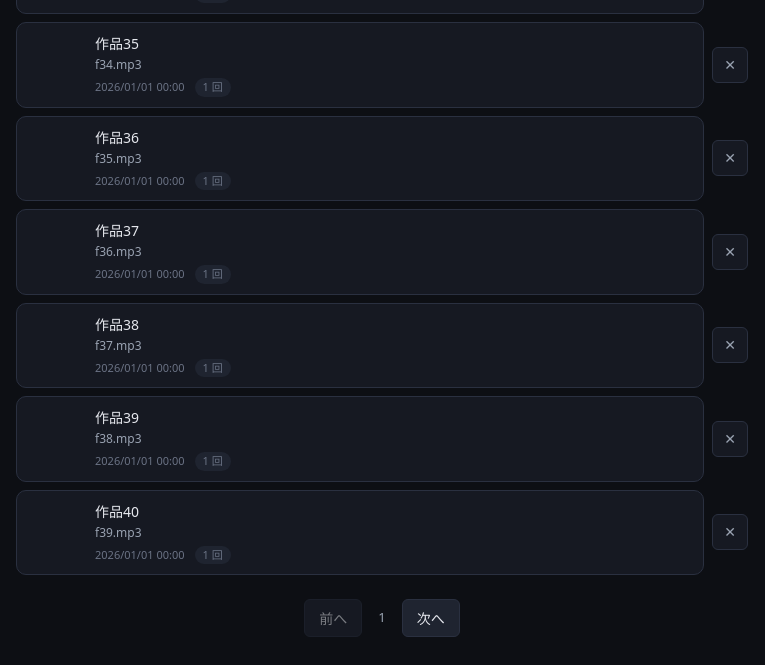
Test case: HistoryPage 非先頭ページの全件削除 › 2 ページ目の最後の 1 件を削除すると 1 ページ目へ戻って再フェッチする
(page scrolled)
Click the button "次へ".
click(431, 618)  # box [402, 599, 460, 637]
(page scrolled)
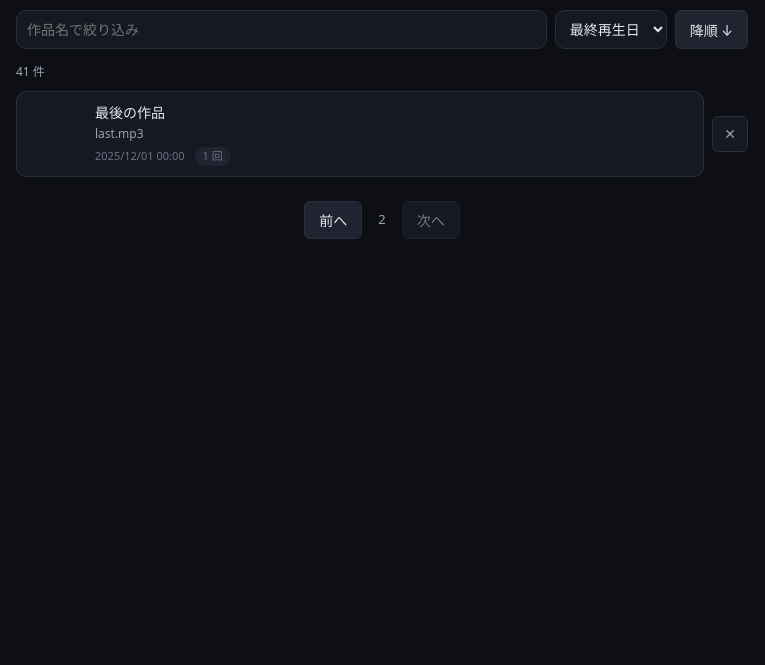
Check: the text "最後の作品" is shown, box [95, 103, 165, 122]
Click the button named "この作品の履歴を削除".
click(730, 134)  # box [712, 116, 748, 152]
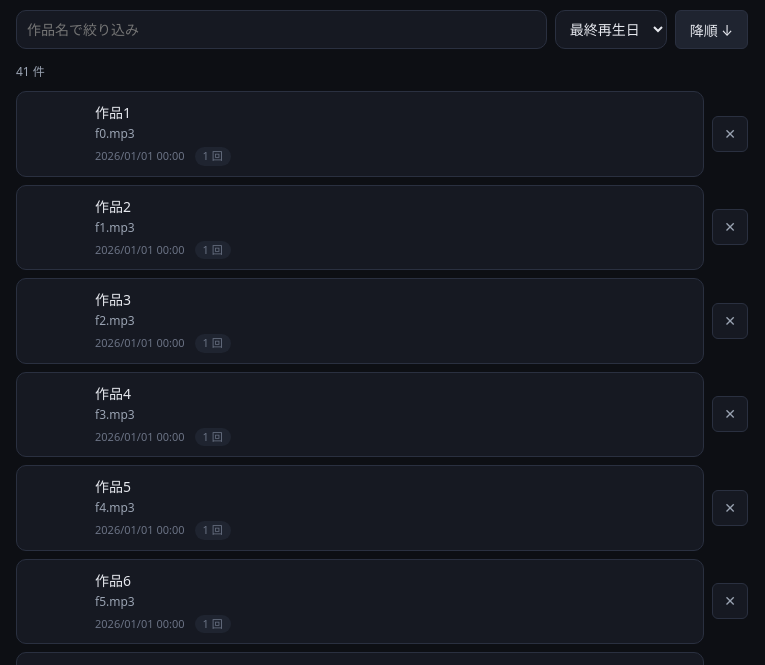
Check: the text "作品1" is shown, box [95, 103, 131, 122]
